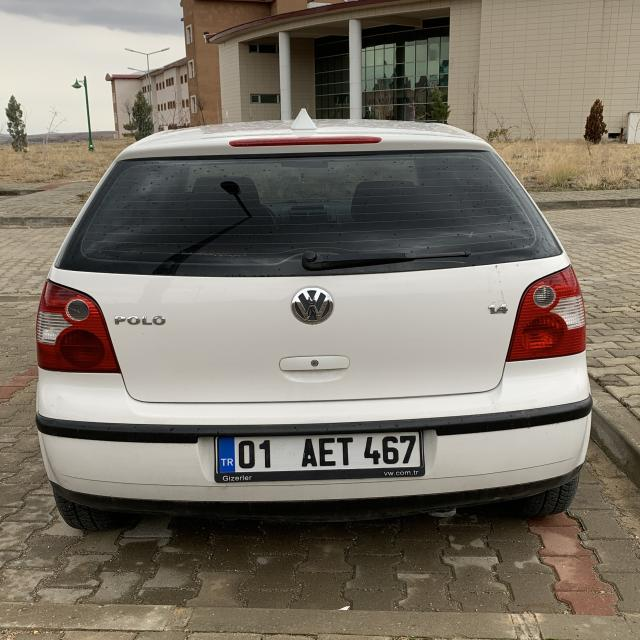license_plate: (217, 429, 423, 474)
